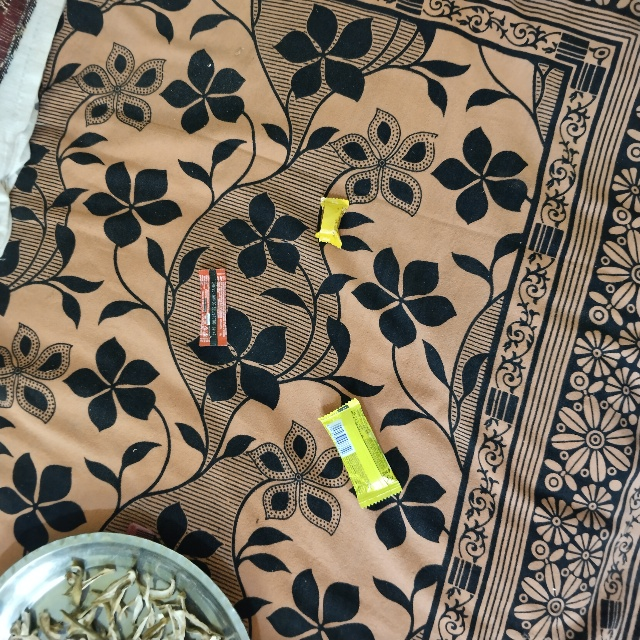Alpenlibe Creamfills: (324, 190, 354, 246)
Nescafe Coffee: (194, 262, 231, 349)
Orbit: (319, 418, 362, 523)
